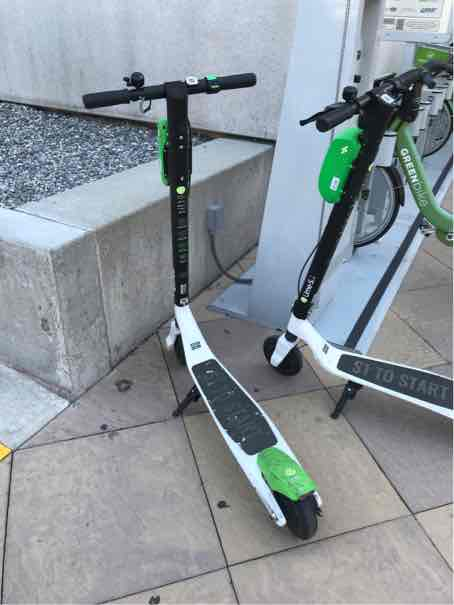scooter: (79, 69, 329, 544), (262, 68, 454, 417)
